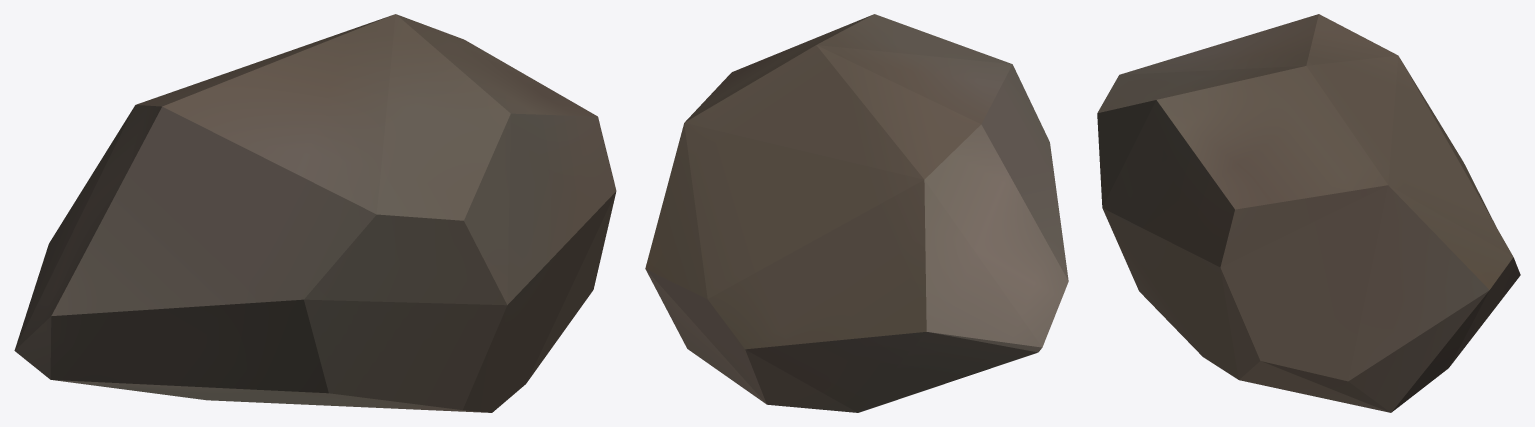
File: Rock1.fbx
3 renders of one model, left to right at view 1: azimuth 30°, elevation 25°; view 2: azimuth 150°, elevation 25°; view 3: azimuth 270°, elevation 25°, orthographic. The views are drawn at different scales.
Parts seen in each view (by area): view 1: Eff_Model_Rock_02_02; view 2: Eff_Model_Rock_02_02; view 3: Eff_Model_Rock_02_02.
Boxes of the visible parts, x1=… form: Eff_Model_Rock_02_02: x1=14, y1=14, x2=616, y2=412; Eff_Model_Rock_02_02: x1=645, y1=14, x2=1068, y2=412; Eff_Model_Rock_02_02: x1=1097, y1=14, x2=1520, y2=412.
Size of the model in its own units: 54.96 by 41.92 by 50.82.
